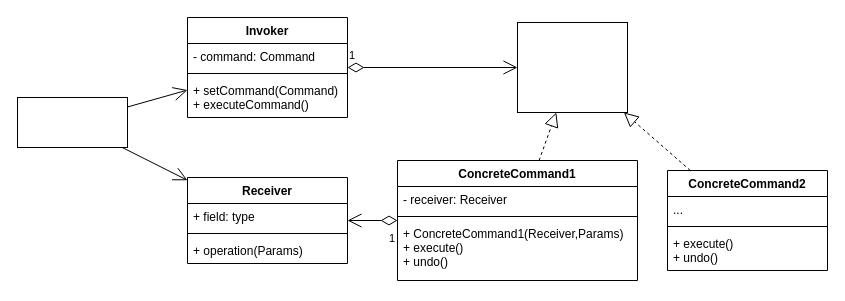
This 845x301 diagram has some shape labels left out. Each missing label, with the centre of its shape:
"<<Interface>> Command + execute() + undo()" belongs at (572,67).
"Client" belongs at (72,122).
